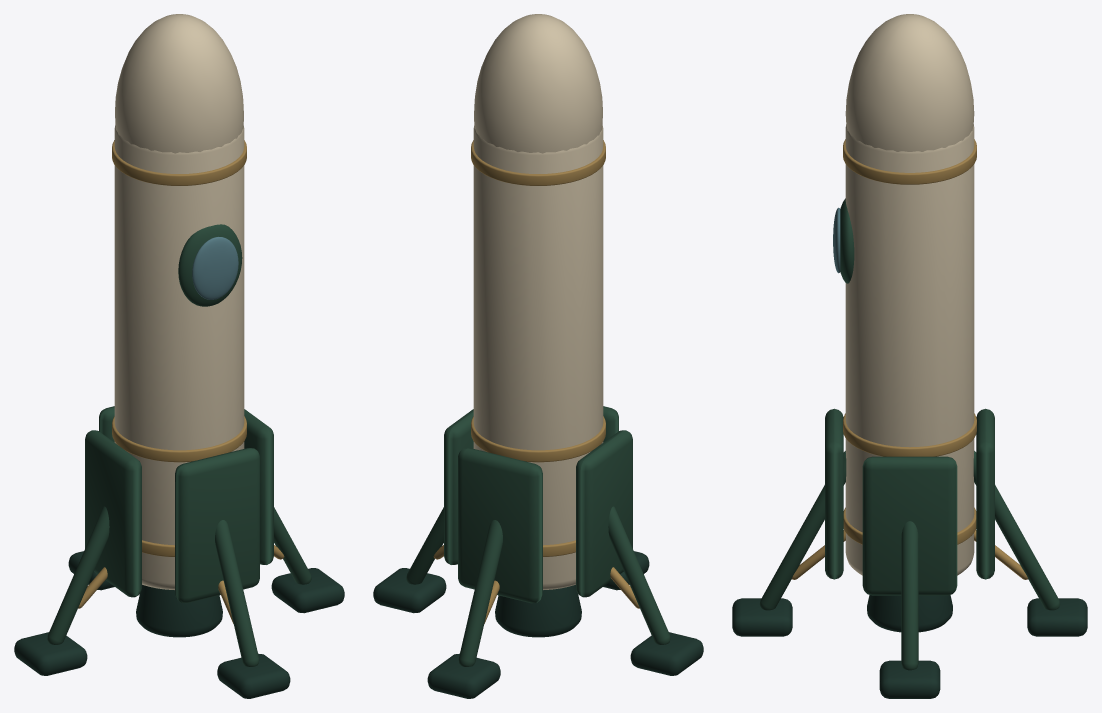
The model's file is rocket-proxy.glb.
The picture shows the model from 3 angles, left to right: view 1: azimuth 30°, elevation 25°; view 2: azimuth 150°, elevation 25°; view 3: azimuth 270°, elevation 25°; orthographic projection.
Visible parts, largest first — view 1: RocketHero; view 2: RocketHero; view 3: RocketHero.
Boxes of the visible parts, box(x1,y1,x2,y2) form: RocketHero: box(14, 14, 344, 698); RocketHero: box(373, 14, 703, 698); RocketHero: box(732, 14, 1087, 698).
Bounding box in the file's own units: 1.86 × 3.56 × 1.88.
